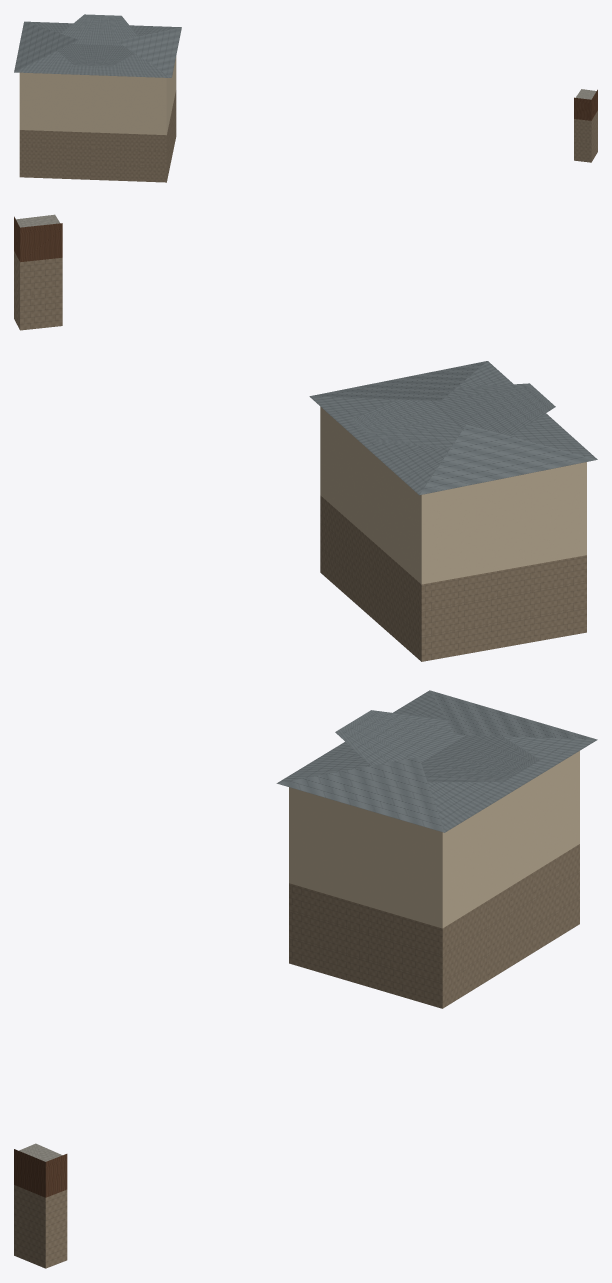
The model's file is bld_c10_15_454.gltf.
3 views of the same model, one above another, from view 1: azimuth 30°, elevation 25°; view 2: azimuth 150°, elevation 25°; view 3: azimuth 270°, elevation 25° (orthographic). The views are drawn at different scales.
Visible parts, largest first — view 1: bld_c10_15_454; view 2: bld_c10_15_454; view 3: bld_c10_15_454.
Part boxes in pixels (bbox=[...]): bld_c10_15_454: bbox=[14, 14, 597, 182]; bld_c10_15_454: bbox=[14, 214, 597, 661]; bld_c10_15_454: bbox=[14, 690, 597, 1268].
Bounding box in the file's own units: 53.04 × 13 × 33.61.
Materials: 6 (6 with a texture image).
